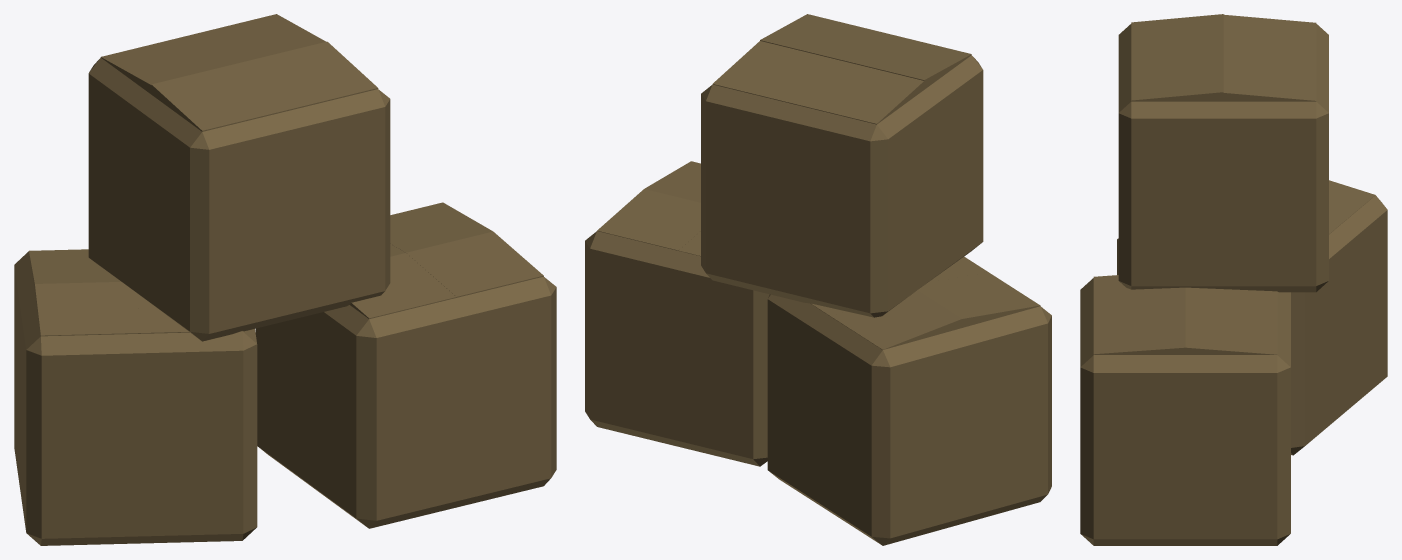
File: CartoonBox2.fbx
3 renders of one model, left to right at view 1: azimuth 30°, elevation 25°; view 2: azimuth 150°, elevation 25°; view 3: azimuth 270°, elevation 25°, orthographic. The views are drawn at different scales.
Visible parts, largest first — view 1: Cube.004; view 2: Cube.004; view 3: Cube.004.
Boxes of the visible parts, x1,y1,x2,y2 form: Cube.004: [14, 14, 556, 545]; Cube.004: [585, 14, 1051, 545]; Cube.004: [1080, 14, 1387, 545].
Bounding box in the file's own units: 462 × 408 × 292.
